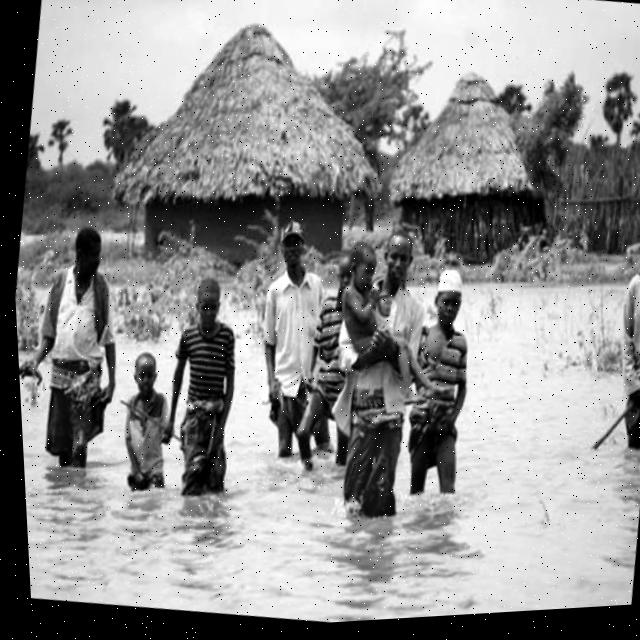civilian: (317, 212, 444, 529), (11, 213, 146, 485), (232, 214, 350, 480), (147, 267, 269, 514), (385, 262, 497, 510), (324, 232, 472, 414), (284, 246, 376, 479), (103, 339, 186, 516), (590, 198, 640, 488)
